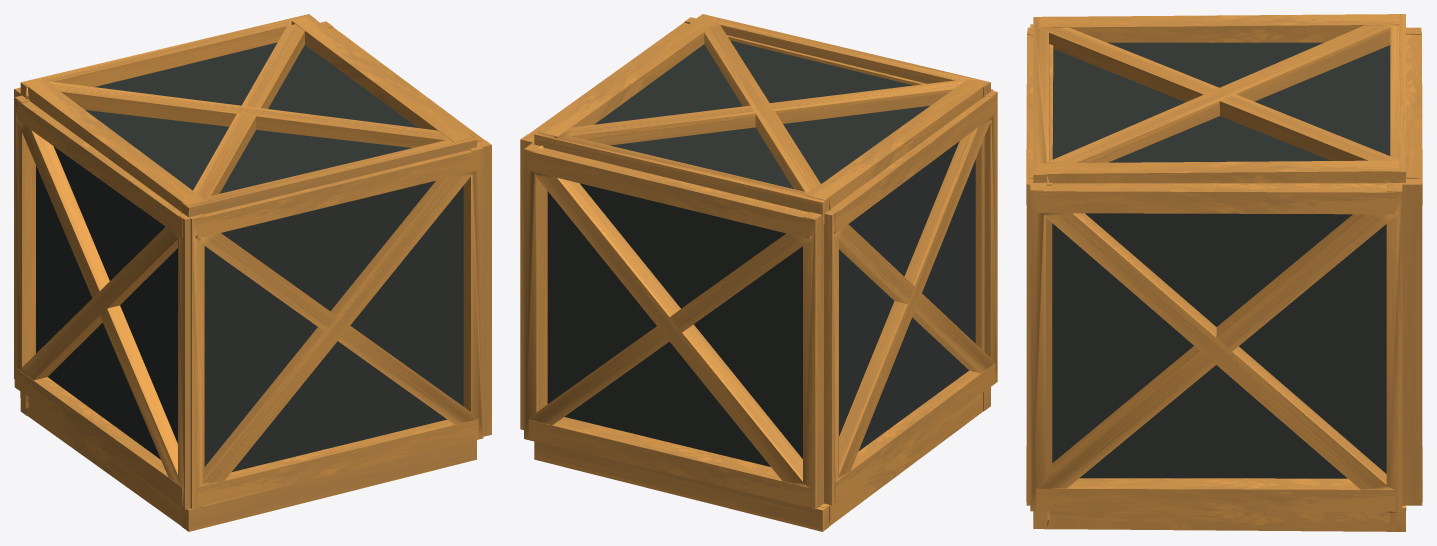
File: Stop.fbx
3 renders of one model, left to right at view 1: azimuth 30°, elevation 25°; view 2: azimuth 150°, elevation 25°; view 3: azimuth 270°, elevation 25°, orthographic. The views are drawn at different scales.
Parts seen in each view (by area): view 1: 立方体.001, 立方体.002, 立方体, 立方体.003; view 2: 立方体.001, 立方体, 立方体.002, 立方体.003; view 3: 立方体.001, 立方体.003, 立方体.002, 立方体.
Part boxes in pixels (left/top/right/bottom): 立方体.001: left=36, top=42, right=463, bottom=471; 立方体.002: left=20, top=14, right=477, bottom=531; 立方体: left=14, top=87, right=483, bottom=508; 立方体.003: left=14, top=21, right=491, bottom=509; 立方体.001: left=547, top=40, right=975, bottom=466; 立方体: left=524, top=35, right=993, bottom=509; 立方体.002: left=534, top=14, right=990, bottom=531; 立方体.003: left=520, top=17, right=997, bottom=505; 立方体.001: left=1052, top=42, right=1390, bottom=478; 立方体.003: left=1030, top=24, right=1402, bottom=512; 立方体.002: left=1033, top=14, right=1406, bottom=531; 立方体: left=1026, top=27, right=1422, bottom=505.
Bounding box in the file's own units: 104 × 105 × 103.
